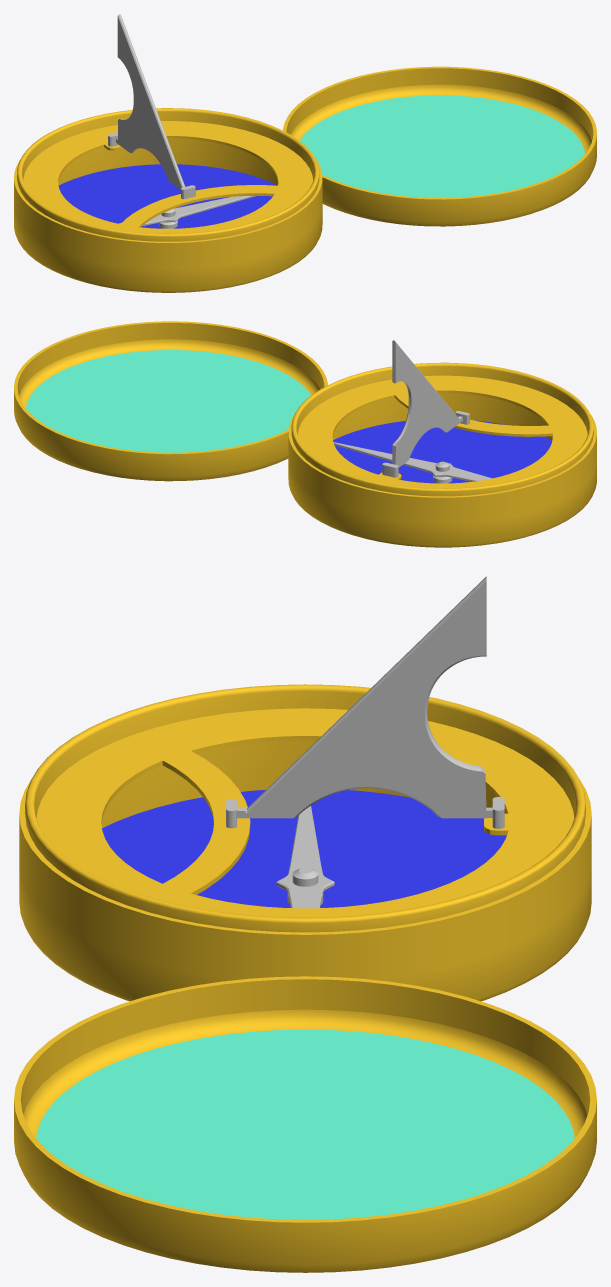
The picture shows the model from 3 angles, top to bottom: view 1: azimuth 30°, elevation 25°; view 2: azimuth 150°, elevation 25°; view 3: azimuth 270°, elevation 25°; orthographic projection. The views are drawn at different scales.
Parts seen in each view (by area): view 1: Cylinder.001, Cylinder, Circle, Plane.001, Plane; view 2: Cylinder.001, Cylinder, Circle, Plane.001, Plane; view 3: Cylinder.001, Cylinder, Circle, Plane.001, Plane.
Part boxes in pixels (x1,y1,x2,y2): Cylinder.001: [283, 66, 596, 226]; Cylinder: [14, 108, 322, 292]; Circle: [23, 121, 313, 233]; Plane.001: [116, 14, 185, 189]; Plane: [119, 196, 256, 226]; Cylinder.001: [14, 321, 327, 481]; Cylinder: [288, 362, 596, 547]; Circle: [297, 375, 587, 488]; Plane.001: [392, 340, 462, 467]; Plane: [333, 442, 491, 481]; Cylinder.001: [14, 976, 596, 1272]; Cylinder: [19, 684, 591, 1001]; Circle: [36, 708, 574, 917]; Plane.001: [237, 576, 492, 818]; Plane: [276, 806, 334, 908].
Size of what is drawn, in the model's own units: 0.7045 by 0.2233 by 0.3543.
